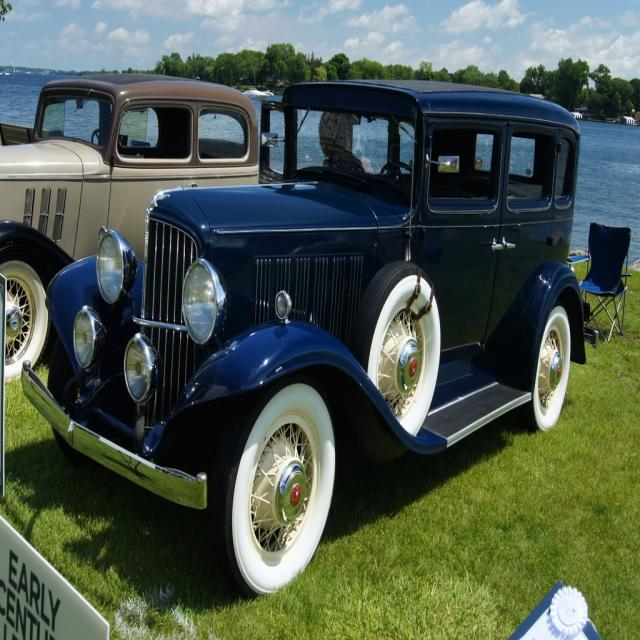car: (23, 80, 599, 598)
